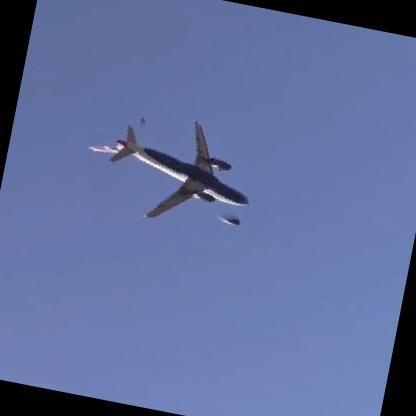plane: (75, 95, 262, 247)
